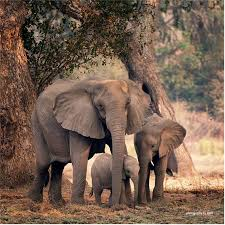Elephant: (21, 71, 154, 210)
